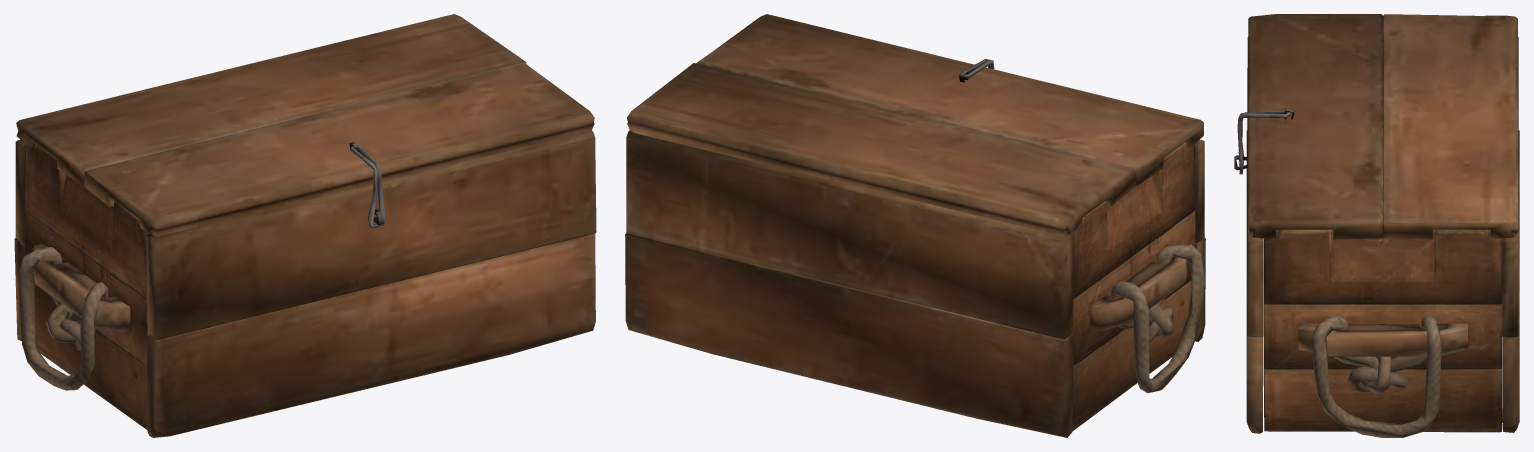
File: cajon.glb
The picture shows the model from 3 angles, left to right: view 1: azimuth 30°, elevation 25°; view 2: azimuth 150°, elevation 25°; view 3: azimuth 270°, elevation 25°; orthographic projection. The views are drawn at different scales.
Parts seen in each view (by area): view 1: wooden_crate_01, wooden_crate_01_lid, wooden_crate_01_latch; view 2: wooden_crate_01, wooden_crate_01_lid; view 3: wooden_crate_01_lid, wooden_crate_01, wooden_crate_01_latch.
Part boxes in pixels (x1,y1,x2,y2): wooden_crate_01: (14,130,596,437); wooden_crate_01_lid: (16,14,594,236); wooden_crate_01_latch: (350,145,385,228); wooden_crate_01: (625,130,1205,437); wooden_crate_01_lid: (627,14,1203,236); wooden_crate_01_lid: (1248,14,1518,239); wooden_crate_01: (1234,37,1519,437); wooden_crate_01_latch: (1237,110,1290,174).
Size of the model in its own units: 0.8245 by 0.3469 by 0.4056.
1 material, 1 textured.
